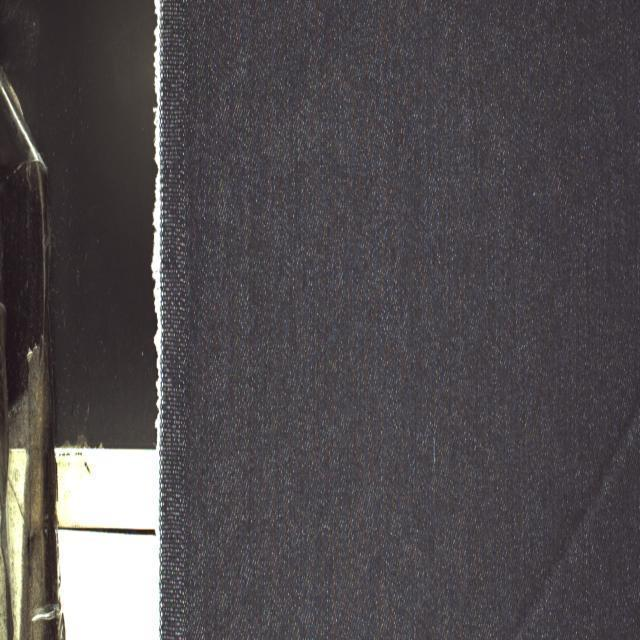broken_yarn: (507, 398, 637, 639)
